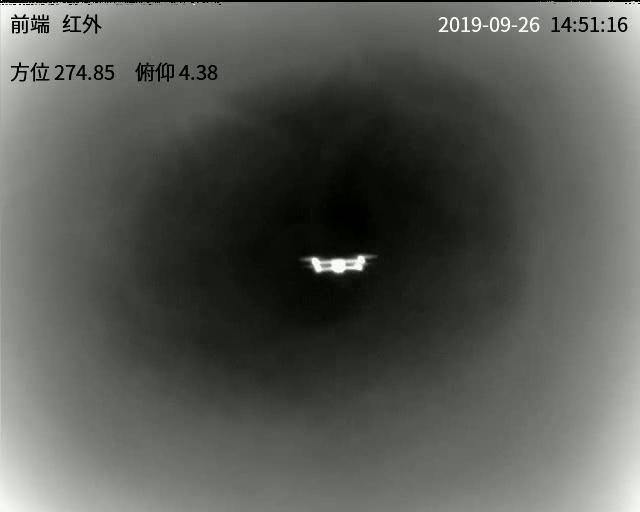DRONE: (307, 254, 372, 273)
